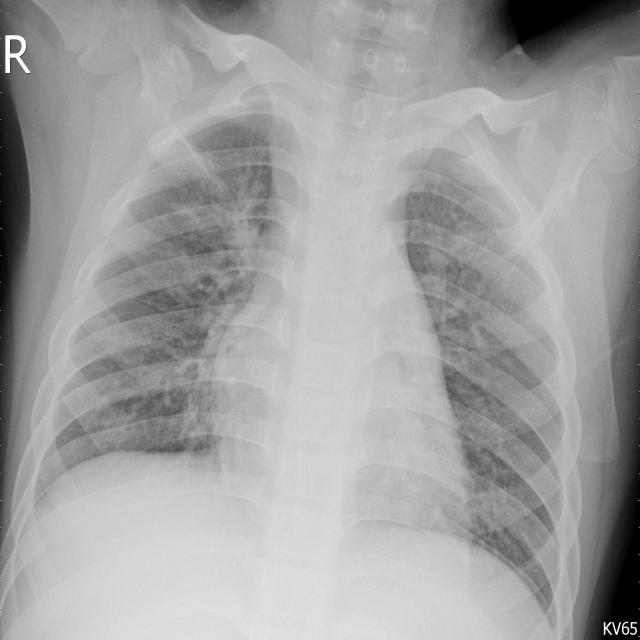low-pneumonia: (187, 185, 273, 330)
